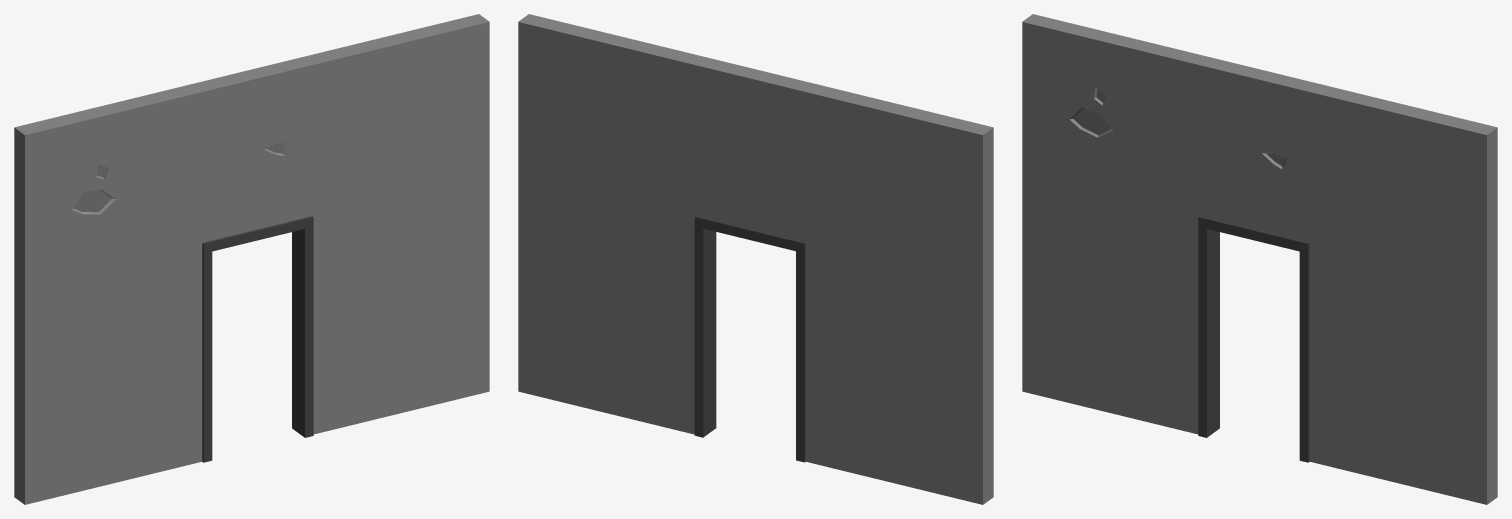
Rendered from Wall_04.fbx.
3 views of the same model, side by side, from view 1: azimuth 30°, elevation 25°; view 2: azimuth 150°, elevation 25°; view 3: azimuth 330°, elevation 25° (orthographic).
Visible parts, largest first — view 1: Wall_04; view 2: Wall_04; view 3: Wall_04.
Part boxes in pixels (x1,y1,x2,y2): Wall_04: (14, 14, 489, 504); Wall_04: (518, 14, 993, 504); Wall_04: (1022, 14, 1497, 504).
Size of the model in its own units: 500 by 380 by 24.22.
